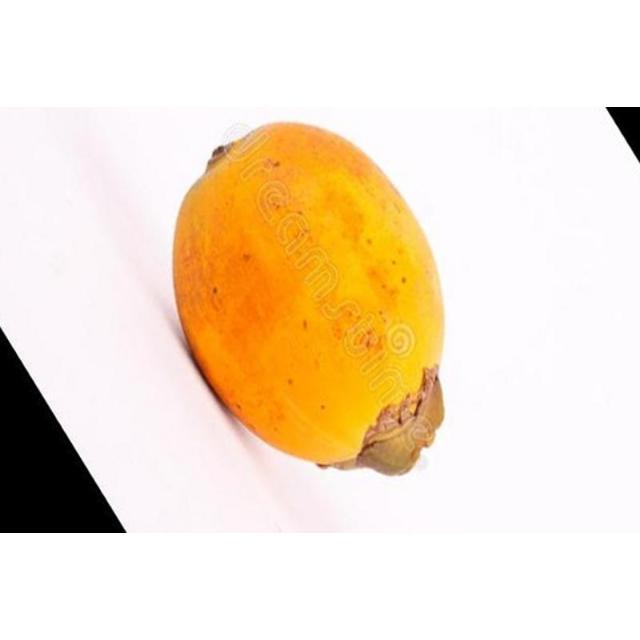good: (171, 121, 447, 477)
